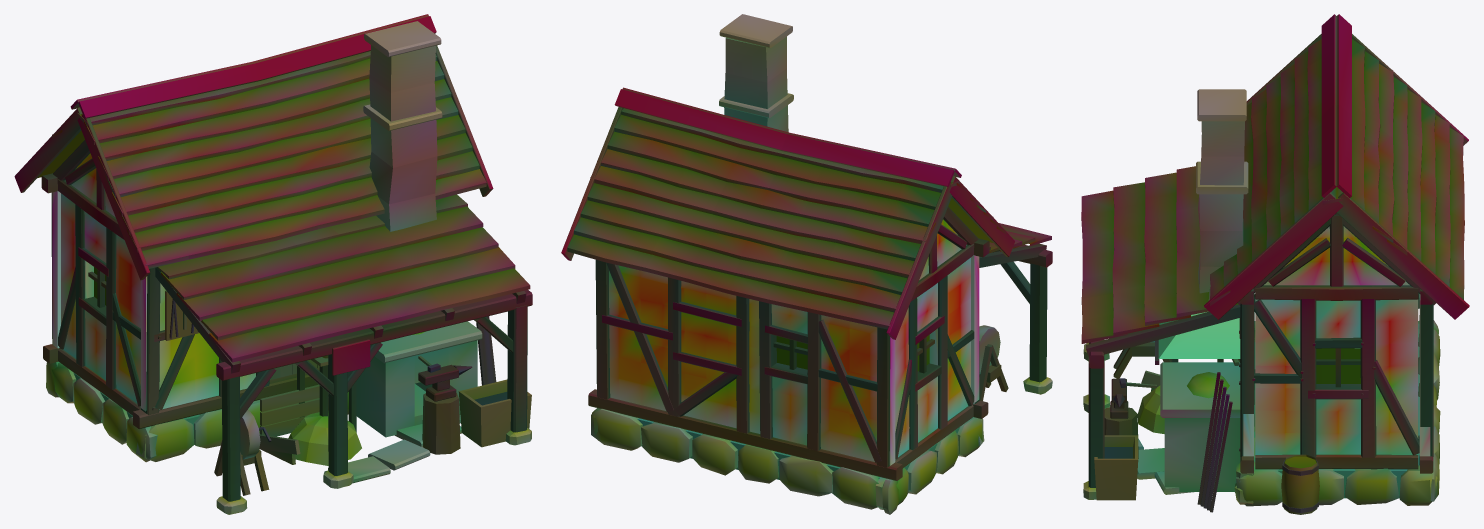
Rendered from blacksmith.glb.
The picture shows the model from 3 angles, left to right: view 1: azimuth 30°, elevation 25°; view 2: azimuth 150°, elevation 25°; view 3: azimuth 270°, elevation 25°; orthographic projection. The views are drawn at different scales.
Visible parts, largest first — view 1: blacksmith_LOD0; view 2: blacksmith_LOD0; view 3: blacksmith_LOD0.
Part boxes in pixels (x1,y1,x2,y2): blacksmith_LOD0: (14,14,532,514); blacksmith_LOD0: (561,14,1052,514); blacksmith_LOD0: (1081,14,1469,514).
Size of what is drawn, in the model's own units: 2.76 by 2.73 by 2.57.
